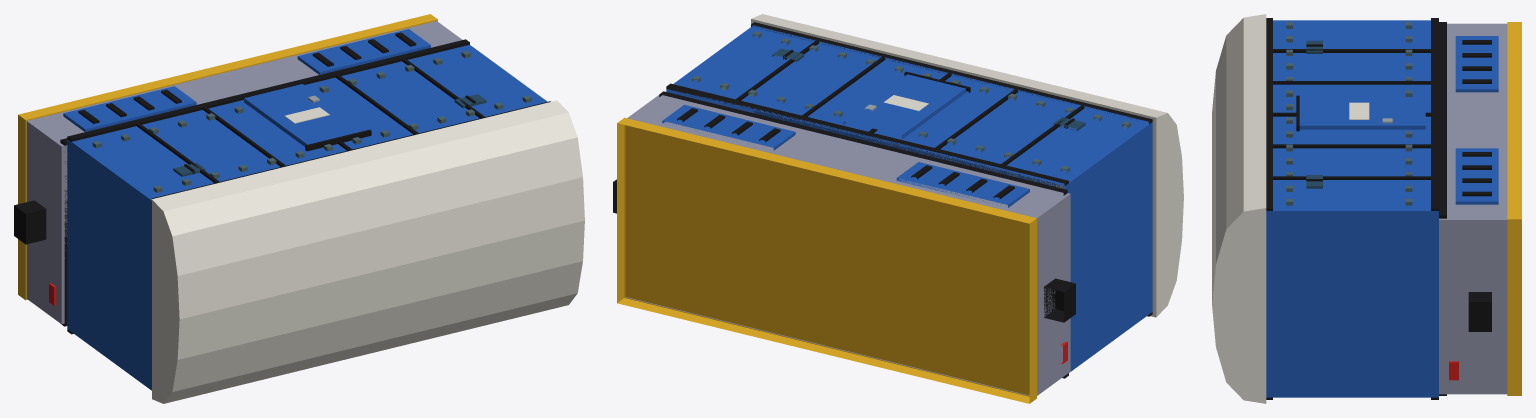
3 renders of one model, left to right at view 1: azimuth 30°, elevation 25°; view 2: azimuth 150°, elevation 25°; view 3: azimuth 270°, elevation 25°, orthographic.
Parts seen in each view (by area): view 1: default_roof, default_body, default_base, default_stripe, default_side1_-0.50_2.20, default_side1_-3.40_2.00, default_pod11, default_pod10, default_coupler-1, default_side1_-3.40_4.50, default_base_lip; view 2: default_stripe, default_body, default_base, default_roof, default_side1_-0.50_2.20, default_side1_-3.40_2.00, default_pod10, default_pod11, default_base_lip, default_side1_-3.40_4.50, default_coupler-1; view 3: default_body, default_roof, default_base, default_stripe, default_side1_-0.50_2.20, default_pod11, default_pod10, default_base_lip, default_side1_-3.40_2.00, default_side1_-3.40_4.50, default_coupler1, default_side1_1.11_2.12 (+4 smaller).
Part boxes in pixels (x1,y1,x2,y2): default_roof: (152, 100, 584, 403); default_body: (67, 44, 547, 390); default_base: (26, 21, 462, 324); default_stripe: (18, 14, 437, 300); default_side1_-0.50_2.20: (244, 84, 365, 146); default_side1_-3.40_2.00: (67, 39, 469, 141); default_pod11: (297, 29, 430, 74); default_pod10: (63, 86, 196, 131); default_coupler-1: (14, 200, 46, 244); default_side1_-3.40_4.50: (152, 101, 550, 198); default_base_lip: (60, 138, 67, 326); default_stripe: (617, 117, 1036, 403); default_body: (666, 25, 1152, 374); default_base: (625, 95, 1070, 395); default_roof: (751, 14, 1183, 317); default_side1_-0.50_2.20: (843, 74, 965, 139); default_side1_-3.40_2.00: (666, 83, 1068, 185); default_pod10: (896, 162, 1029, 207); default_pod11: (662, 104, 795, 150); default_base_lip: (659, 91, 1067, 375); default_side1_-3.40_4.50: (751, 22, 1152, 124); default_coupler-1: (1043, 278, 1075, 322); default_body: (1266, 20, 1438, 397); default_roof: (1212, 14, 1266, 403); default_base: (1439, 23, 1507, 394); default_stripe: (1507, 22, 1521, 395); default_side1_-0.50_2.20: (1299, 97, 1425, 129); default_pod11: (1455, 148, 1498, 204); default_pod10: (1455, 36, 1498, 92); default_base_lip: (1439, 22, 1446, 395); default_side1_-3.40_2.00: (1431, 18, 1438, 210); default_side1_-3.40_4.50: (1266, 18, 1272, 210); default_coupler1: (1468, 292, 1491, 331); default_side1_1.11_2.12: (1273, 144, 1430, 148).
Bounding box in the file's own units: 7.7 × 3.3 × 4.67.
